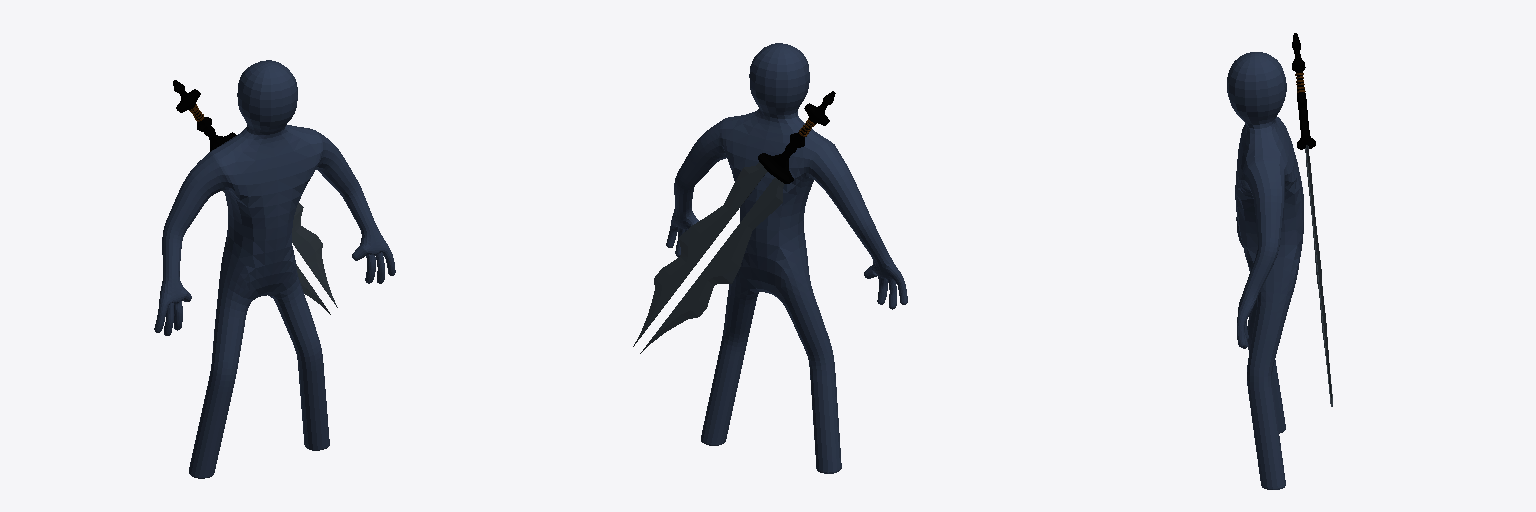
File: Character.obj
The picture shows the model from 3 angles: view 1: azimuth 30°, elevation 25°; view 2: azimuth 150°, elevation 25°; view 3: azimuth 270°, elevation 25°; orthographic projection.
Visible parts, largest first — view 1: Body, Sword; view 2: Body, Sword; view 3: Body, Sword.
Boxes of the visible parts, x1=… form: Body: x1=154, y1=60, x2=395, y2=478; Sword: x1=173, y1=80, x2=337, y2=314; Body: x1=666, y1=43, x2=907, y2=473; Sword: x1=633, y1=91, x2=835, y2=353; Body: x1=1227, y1=52, x2=1303, y2=489; Sword: x1=1292, y1=33, x2=1332, y2=406.
Size of the model in its own units: 1.13 by 1.81 by 0.4332.